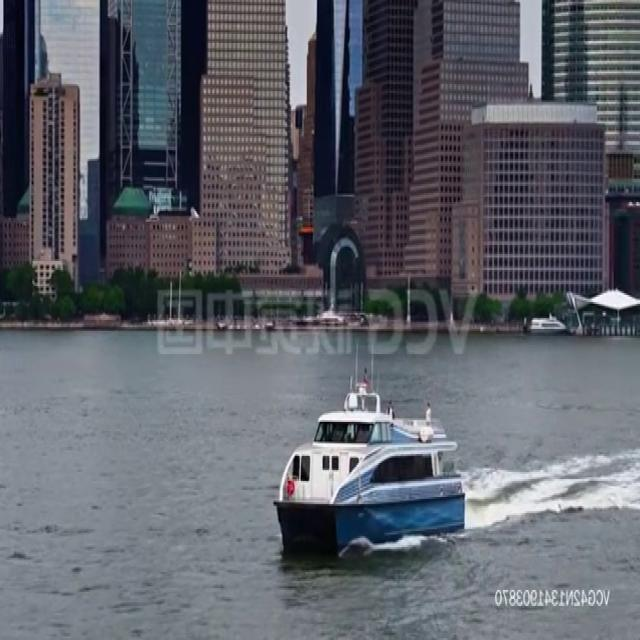houseboat: (275, 376, 466, 556), (530, 309, 566, 333)
